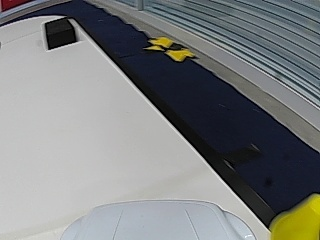block: (43, 17, 77, 50)
cone: (272, 189, 319, 239)
